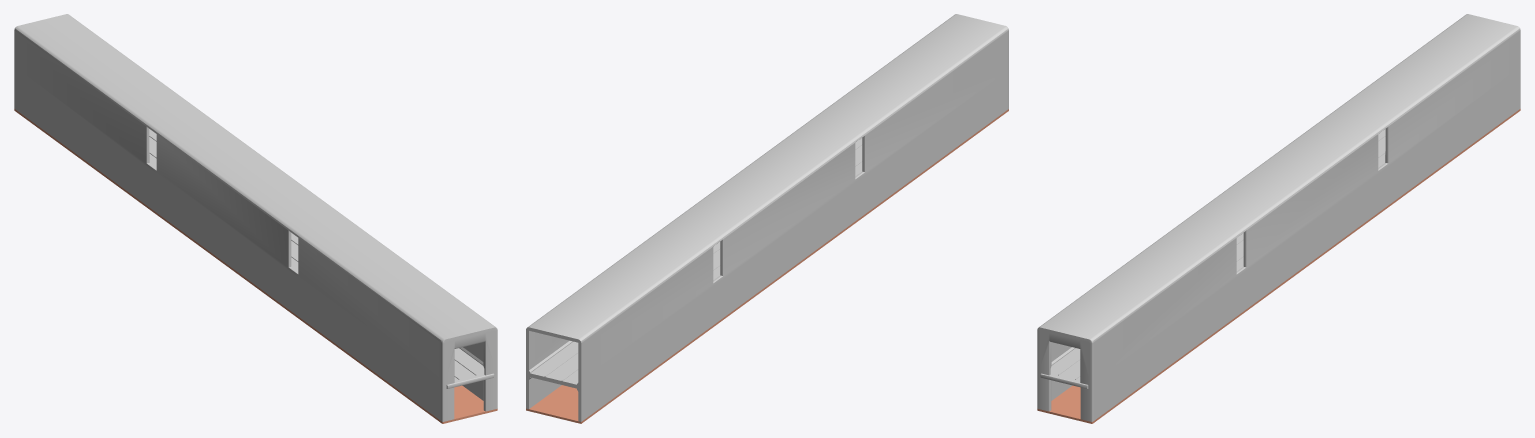
Rendered from OvenCenter.fbx.
3 renders of one model, left to right at view 1: azimuth 30°, elevation 25°; view 2: azimuth 150°, elevation 25°; view 3: azimuth 330°, elevation 25°, orthographic.
Parts seen in each view (by area): view 1: OvenCenter; view 2: OvenCenter; view 3: OvenCenter.
Part boxes in pixels (x1,y1,x2,y2): OvenCenter: [14, 14, 497, 423]; OvenCenter: [526, 14, 1008, 423]; OvenCenter: [1037, 14, 1520, 423].
Bounding box in the file's own units: 3.29 × 4.78 × 44.24.
